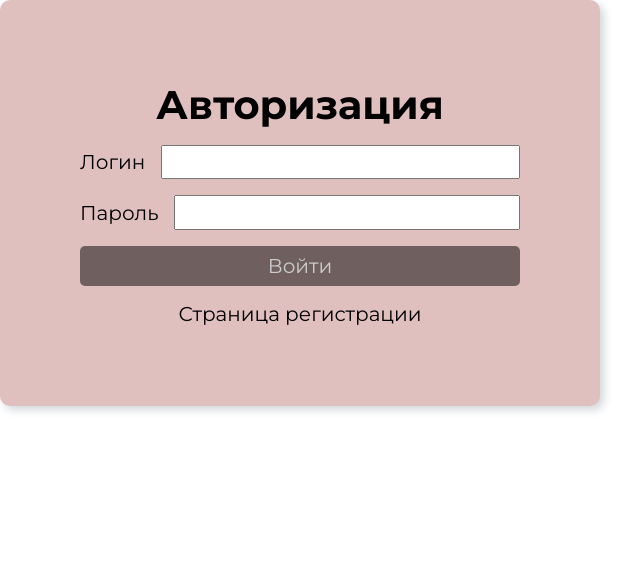
it: Login page › field errors are shown
The width and height of the screenshot is (624, 570).
Step 1. Type "123123" into the field with id "login" → (341, 162), box [161, 145, 520, 179]
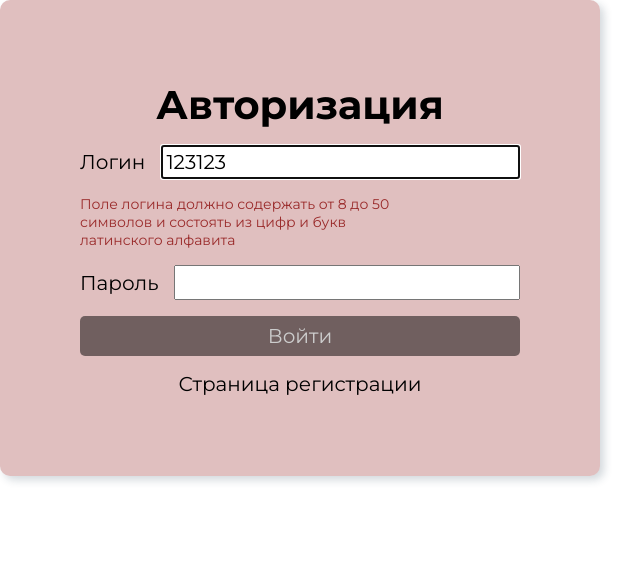
Step 2. Type "123123" into the password field labelled "Пароль" → (347, 283), box [174, 265, 520, 300]
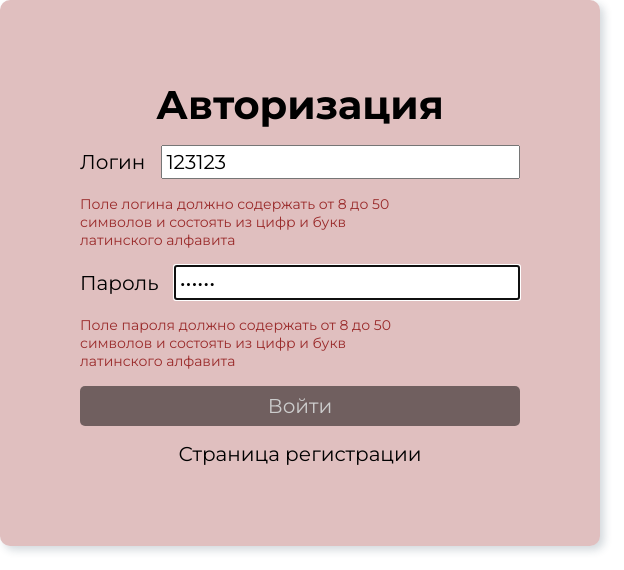
Check: the number of messages is 2, box [80, 195, 404, 249]; [80, 316, 404, 370]
